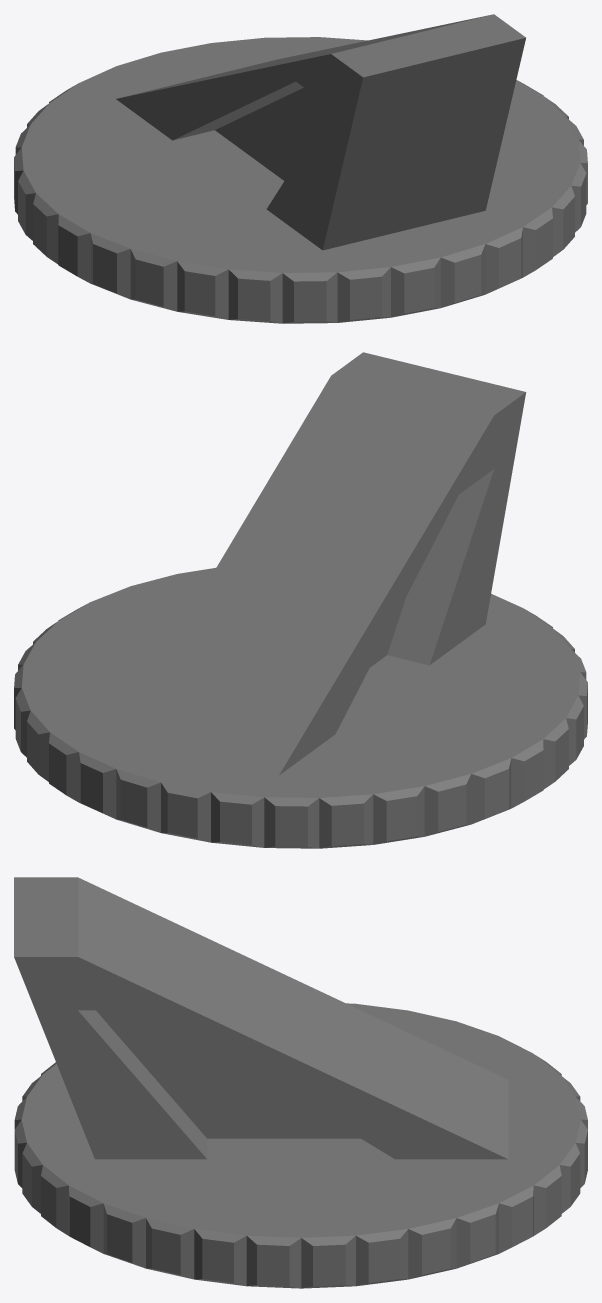
Rendered from turret-yaw-01.glb.
3 renders of one model, top to bottom at view 1: azimuth 30°, elevation 25°; view 2: azimuth 150°, elevation 25°; view 3: azimuth 270°, elevation 25°, orthographic.
Parts seen in each view (by area): view 1: YawRotator; view 2: YawRotator; view 3: YawRotator.
Part boxes in pixels (bbox=[...]): YawRotator: bbox=[14, 14, 587, 323]; YawRotator: bbox=[14, 352, 587, 848]; YawRotator: bbox=[14, 877, 587, 1288].
Bounding box in the file's own units: 0.6827 × 0.3327 × 0.6835.
1 material, 1 textured.
